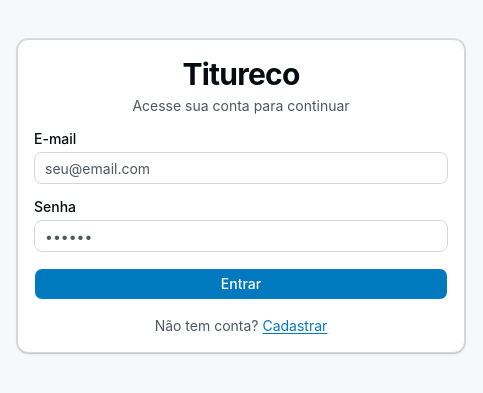
Login Page › validates required fields on empty submit
Step 1. Click the button "Entrar" → (241, 284), box [34,268,448,300]
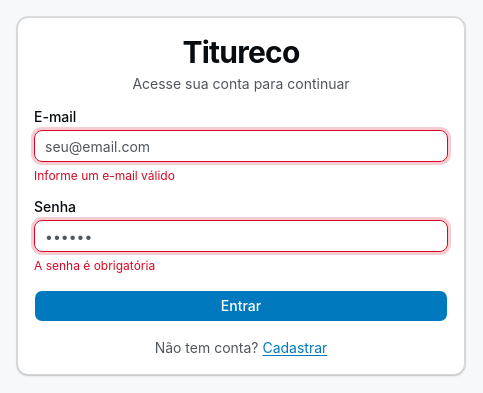
Now the text "Informe um e-mail válido" is shown, box [34,168,175,183]
Now the text "A senha é obrigatória" is shown, box [34,258,155,273]
